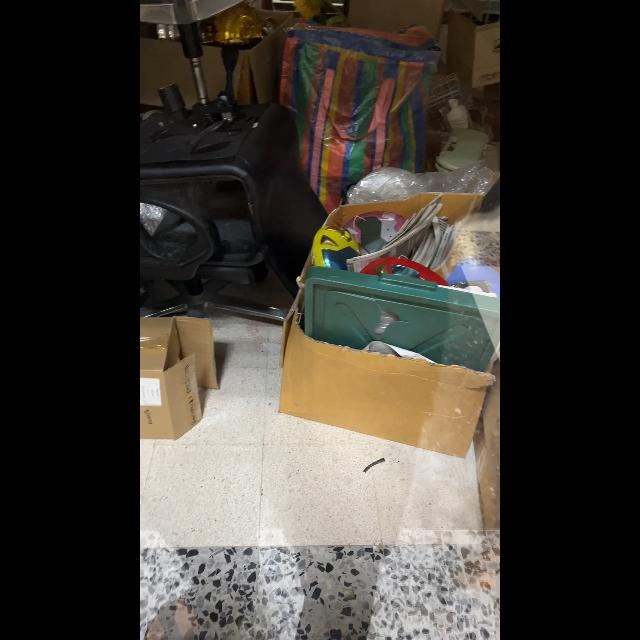cardboard_box: (282, 314, 478, 462), (140, 306, 228, 450)
